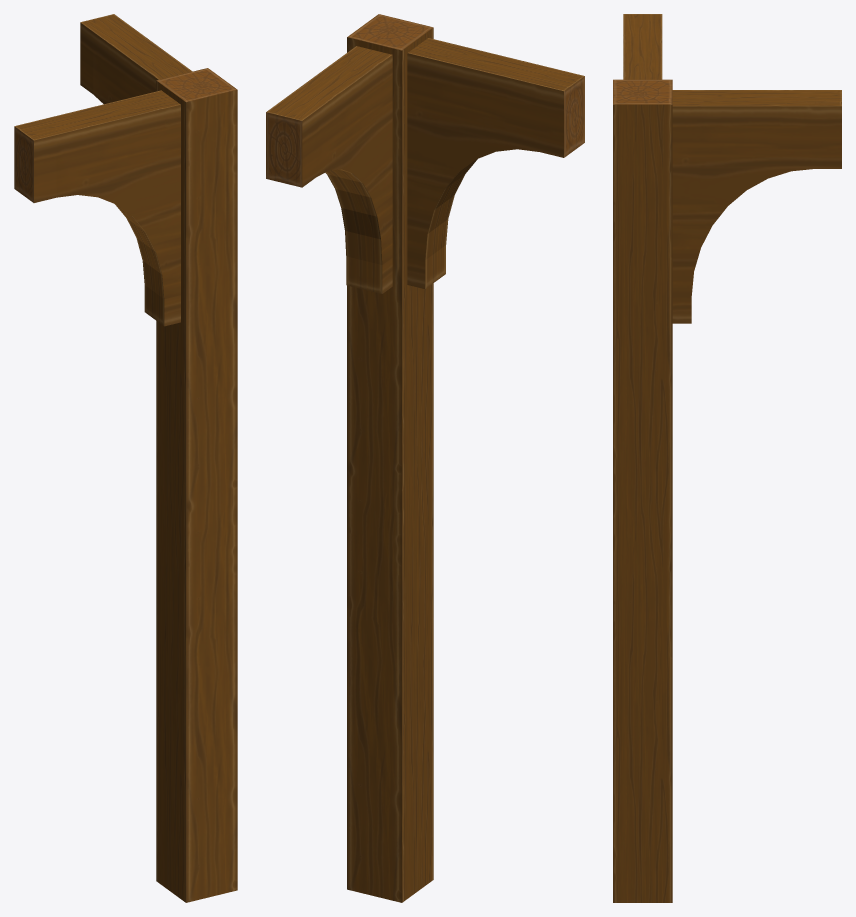
The model's file is SM_Pillar_Exterior_02_Corner.fbx.
The picture shows the model from 3 angles, left to right: view 1: azimuth 30°, elevation 25°; view 2: azimuth 150°, elevation 25°; view 3: azimuth 270°, elevation 25°; orthographic projection. The views are drawn at different scales.
Visible parts, largest first — view 1: SM_Pillar_Exterior_02_Corner; view 2: SM_Pillar_Exterior_02_Corner; view 3: SM_Pillar_Exterior_02_Corner.
Part boxes in pixels (box(x1,y1,x2,y2)): SM_Pillar_Exterior_02_Corner: box(14, 14, 237, 902); SM_Pillar_Exterior_02_Corner: box(266, 14, 584, 902); SM_Pillar_Exterior_02_Corner: box(613, 14, 841, 902).
Size of the model in its own units: 1.1 by 4.24 by 1.1.
